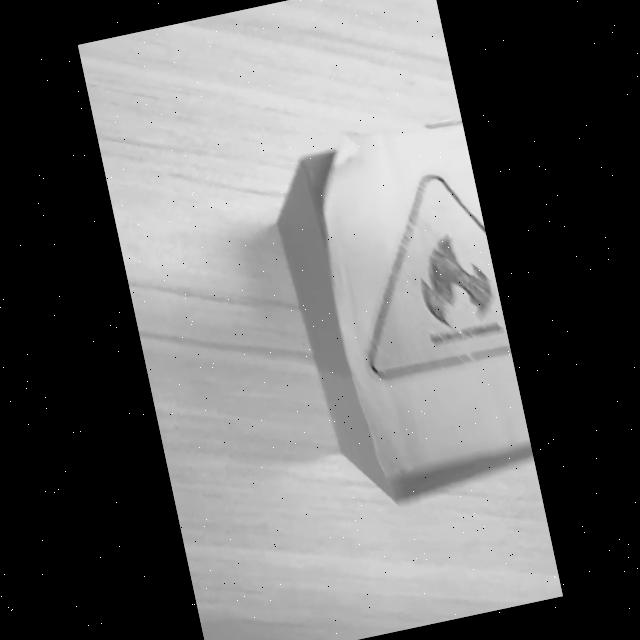Fire: (367, 173, 510, 379)
